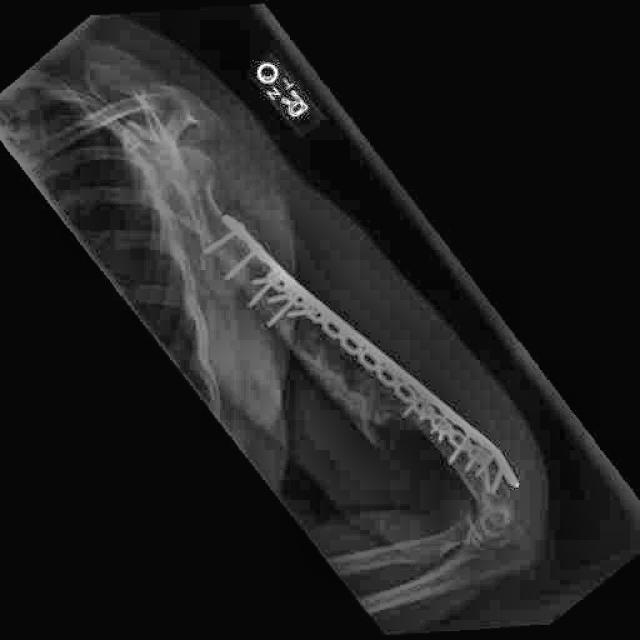humerus: (312, 366, 409, 493)
